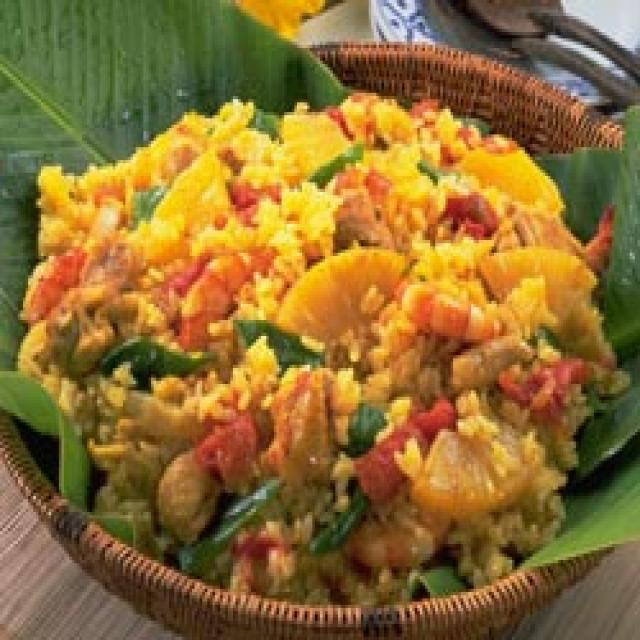米饭主食: (0, 89, 640, 640)
